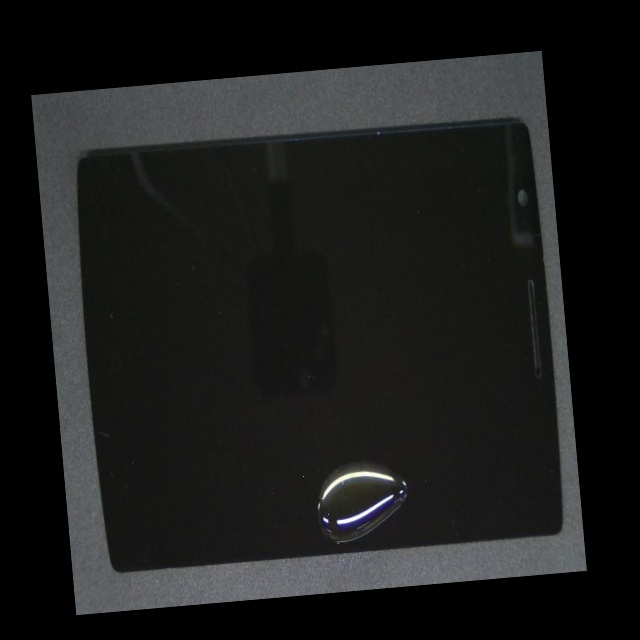oil: (156, 250, 440, 606)
